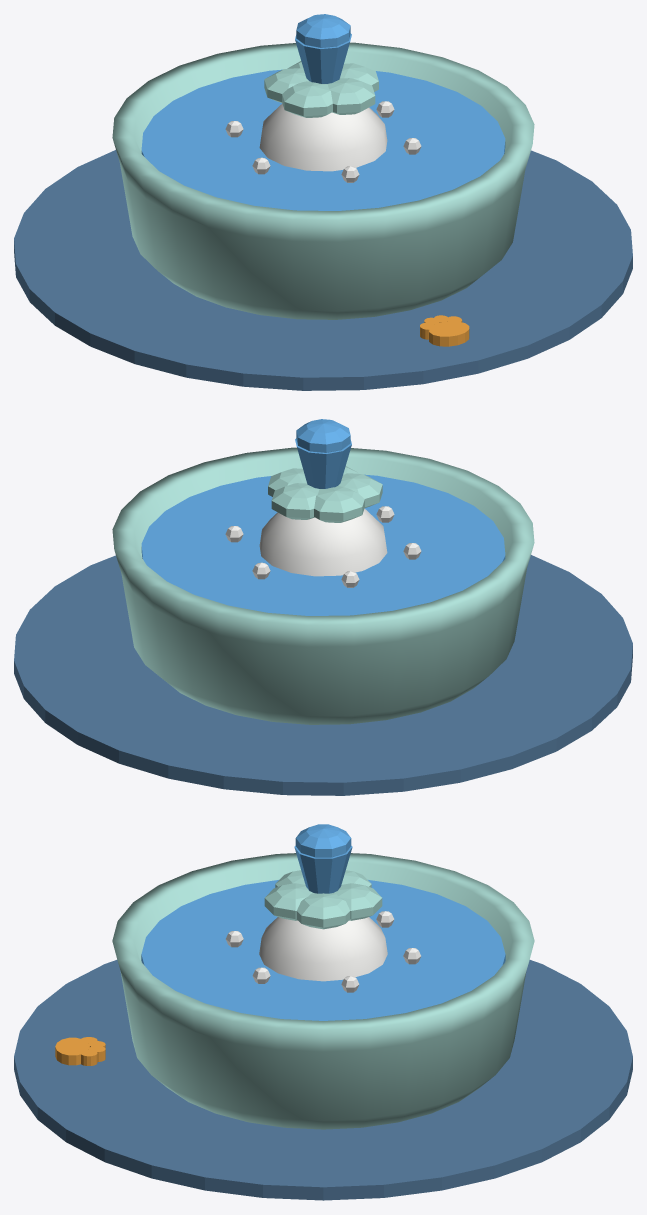
File: cat_fountain.glb
3 views of the same model, one above another, from view 1: azimuth 30°, elevation 25°; view 2: azimuth 150°, elevation 25°; view 3: azimuth 270°, elevation 25° (orthographic).
Visible parts, largest first — view 1: cat_fountain; view 2: cat_fountain; view 3: cat_fountain.
Boxes of the visible parts, x1=… form: cat_fountain: x1=14, y1=14, x2=632, y2=390; cat_fountain: x1=14, y1=419, x2=632, y2=795; cat_fountain: x1=14, y1=824, x2=632, y2=1200.
Size of the model in its own units: 0.425 by 0.1825 by 0.425.
